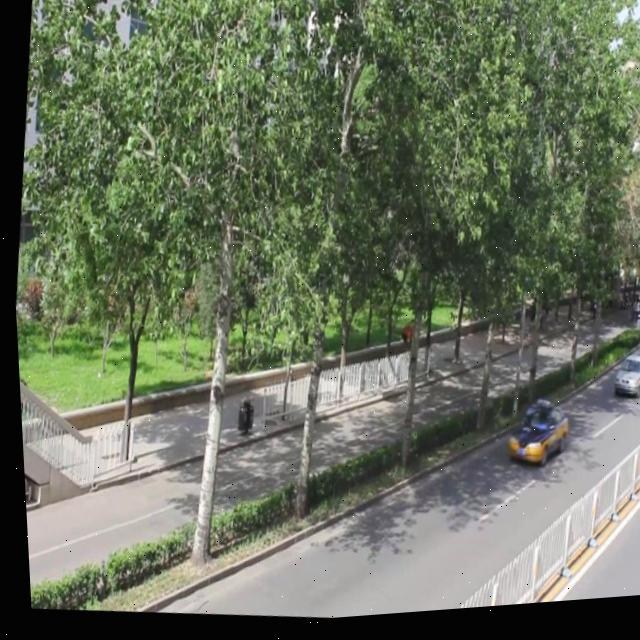car: (500, 400, 565, 477), (606, 360, 640, 408)
